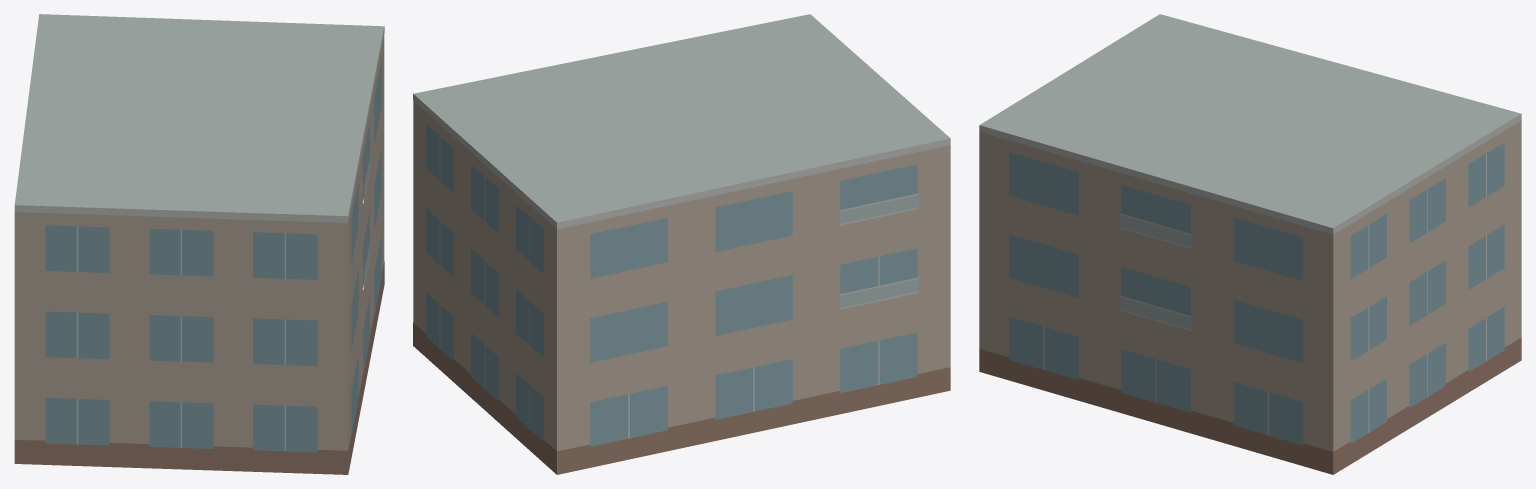
Rendered from survey-upis-32731733.glb.
3 renders of one model, left to right at view 1: azimuth 30°, elevation 25°; view 2: azimuth 150°, elevation 25°; view 3: azimuth 270°, elevation 25°, orthographic. The views are drawn at different scales.
Parts seen in each view (by area): view 1: survey-upis-32731733.tmp; view 2: survey-upis-32731733.tmp; view 3: survey-upis-32731733.tmp.
Part boxes in pixels (bbox=[...]): survey-upis-32731733.tmp: bbox=[14, 14, 384, 474]; survey-upis-32731733.tmp: bbox=[413, 14, 950, 474]; survey-upis-32731733.tmp: bbox=[979, 14, 1521, 474].
Size of the model in its own units: 17.06 by 9.15 by 18.24.
